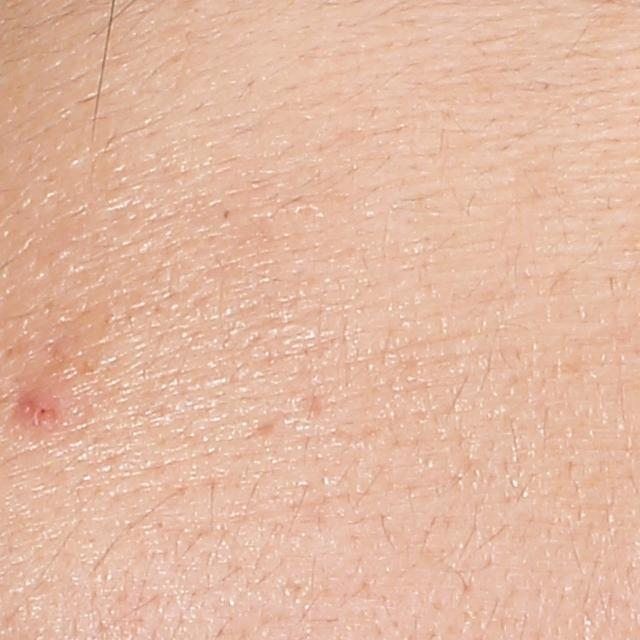papule: (19, 388, 61, 426)
